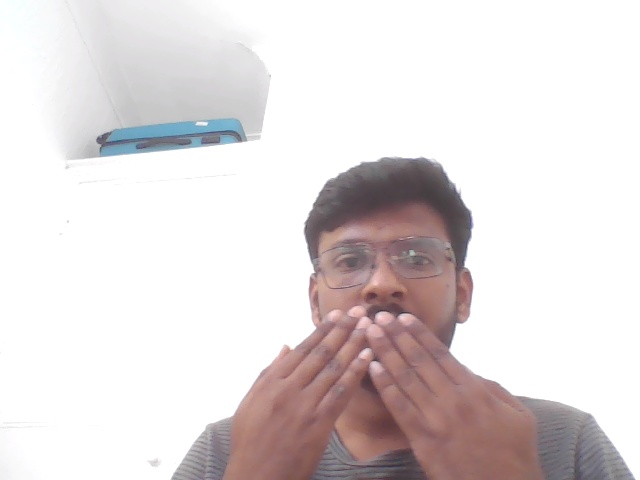Thank You: (213, 295, 548, 480)
